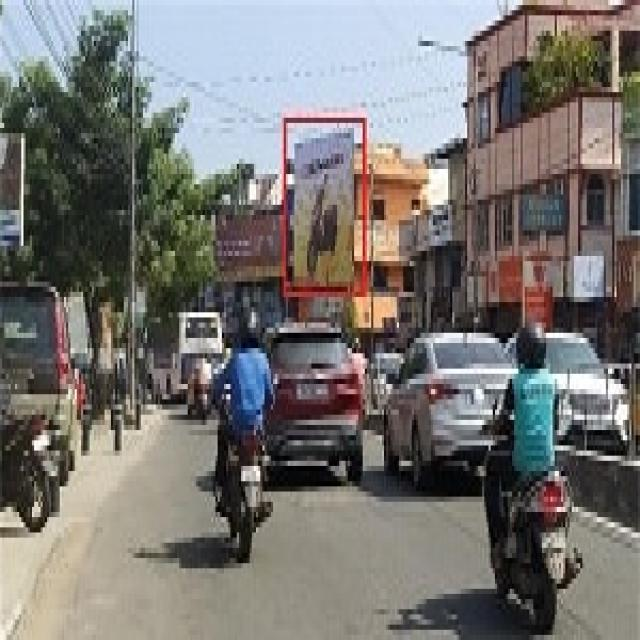Werbetafel frei: (293, 144, 355, 289)
